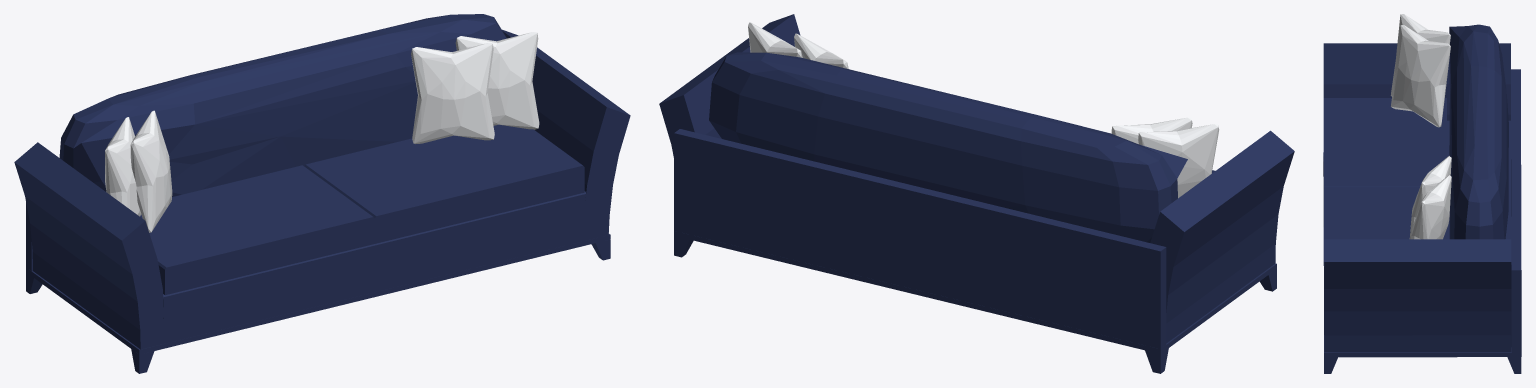
File: Accesories_Sofa_Large.009.glb
The picture shows the model from 3 angles, left to right: view 1: azimuth 30°, elevation 25°; view 2: azimuth 150°, elevation 25°; view 3: azimuth 270°, elevation 25°; orthographic projection. The views are drawn at different scales.
Parts seen in each view (by area): view 1: Accesories_Sofa_Large.009; view 2: Accesories_Sofa_Large.009; view 3: Accesories_Sofa_Large.009.
Part boxes in pixels (x1,y1,x2,y2): Accesories_Sofa_Large.009: (14, 14, 630, 373); Accesories_Sofa_Large.009: (659, 14, 1294, 373); Accesories_Sofa_Large.009: (1323, 14, 1521, 373).
Size of the model in its own units: 2.38 by 0.8714 by 0.918.
Materials: 1 (1 with a texture image).
